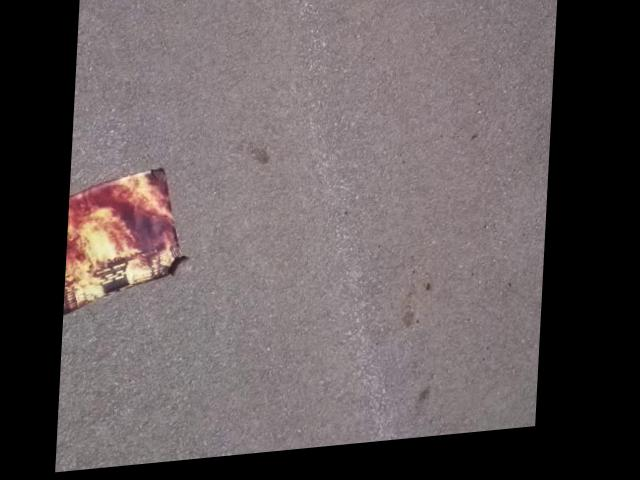fire-poster: (68, 164, 198, 319)
